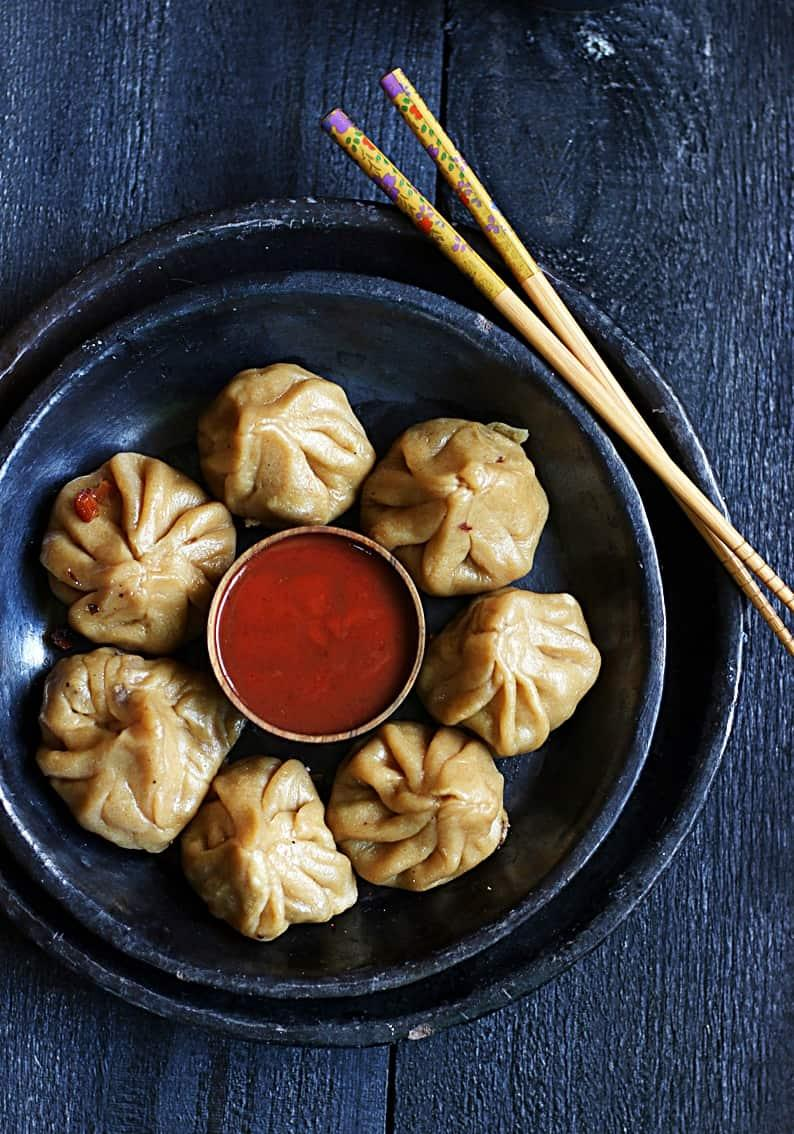momos: (38, 647, 241, 852), (40, 452, 235, 652), (361, 419, 549, 595), (182, 755, 357, 941), (416, 587, 600, 756), (326, 722, 507, 890), (197, 363, 374, 529)
